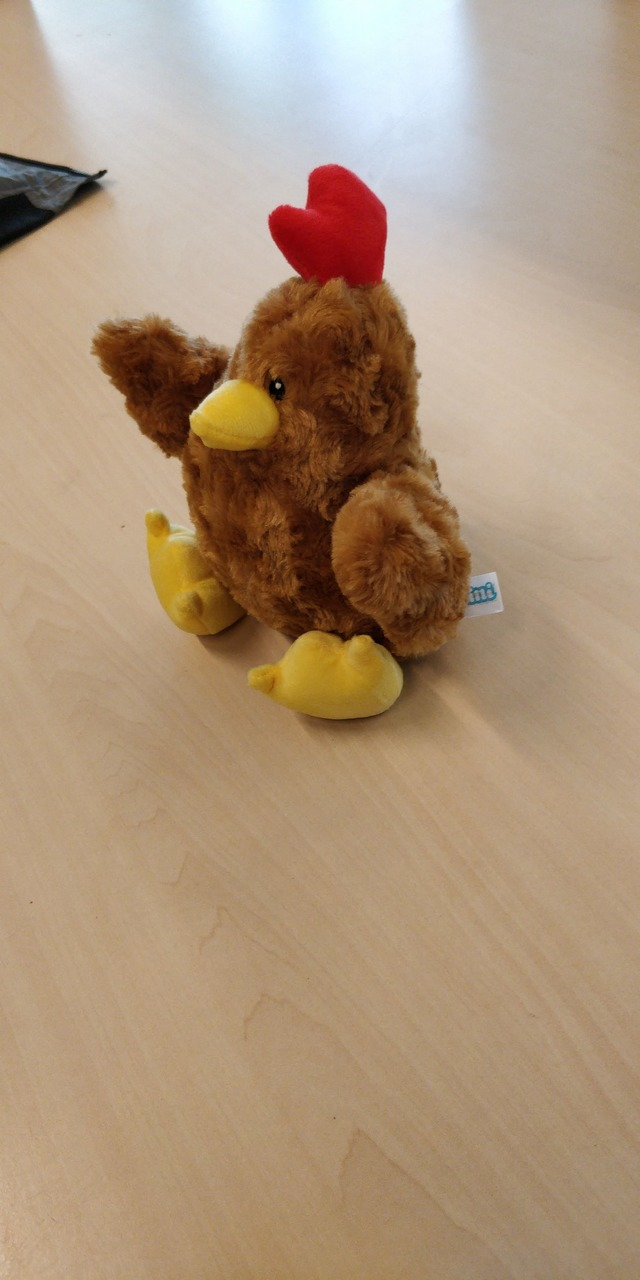fakeChicken: (90, 163, 473, 720)
